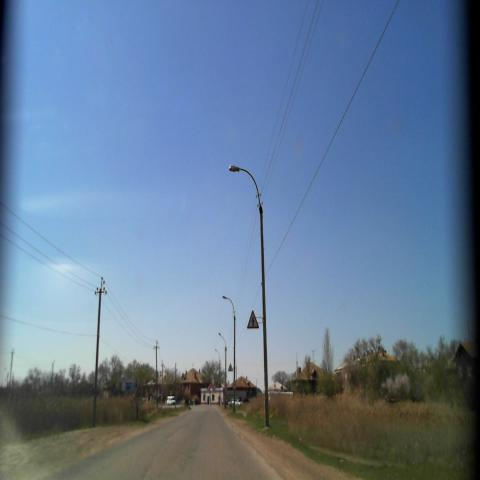2_3: (246, 310, 260, 329)
